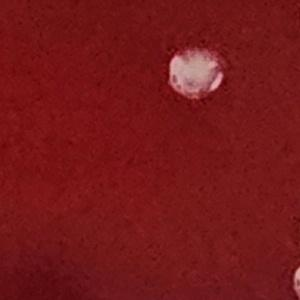colony: (167, 42, 228, 103), (288, 255, 300, 300)
